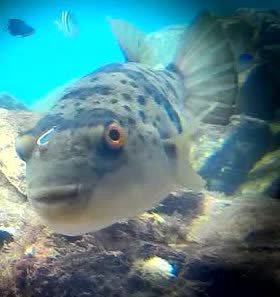hugu: (11, 27, 239, 243)
